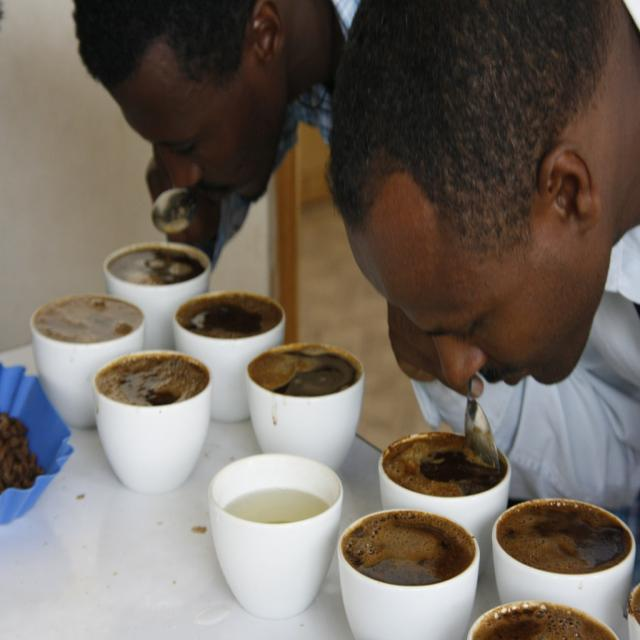Coffee: (349, 517, 490, 629), (498, 499, 634, 580), (382, 440, 509, 498), (247, 344, 363, 400), (97, 353, 209, 408), (34, 293, 143, 341), (472, 606, 618, 639), (174, 296, 282, 340), (108, 245, 204, 288), (632, 585, 640, 621)
Tea: (497, 497, 634, 571), (342, 514, 471, 584), (382, 430, 505, 497), (246, 340, 360, 400), (96, 348, 208, 408), (32, 289, 140, 347), (466, 597, 615, 639), (176, 294, 283, 340), (108, 248, 206, 288), (630, 586, 640, 624)
